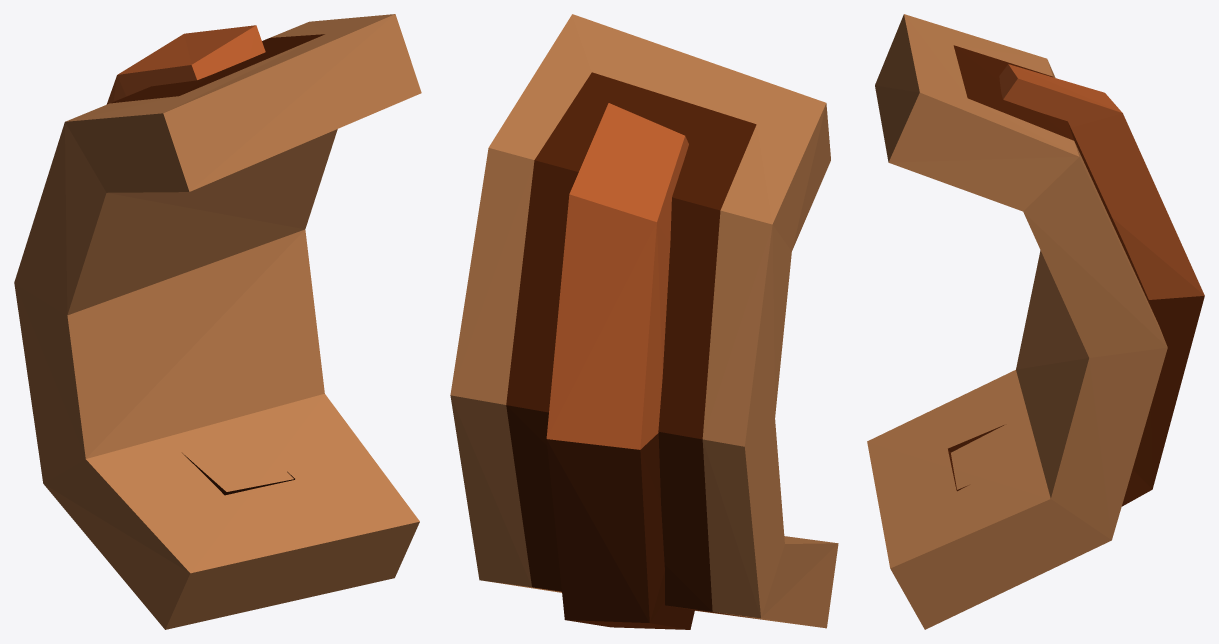
Rendered from Pauldron 10.FBX.
3 renders of one model, left to right at view 1: azimuth 30°, elevation 25°; view 2: azimuth 150°, elevation 25°; view 3: azimuth 270°, elevation 25°, orthographic. The views are drawn at different scales.
Visible parts, largest first — view 1: Pauldron 10; view 2: Pauldron 10; view 3: Pauldron 10.
Part boxes in pixels (x1,y1,x2,y2): Pauldron 10: (14,14,421,629); Pauldron 10: (450,14,838,629); Pauldron 10: (867,14,1204,629).
Bounding box in the file's own units: 10.74 × 20.43 × 11.66.
